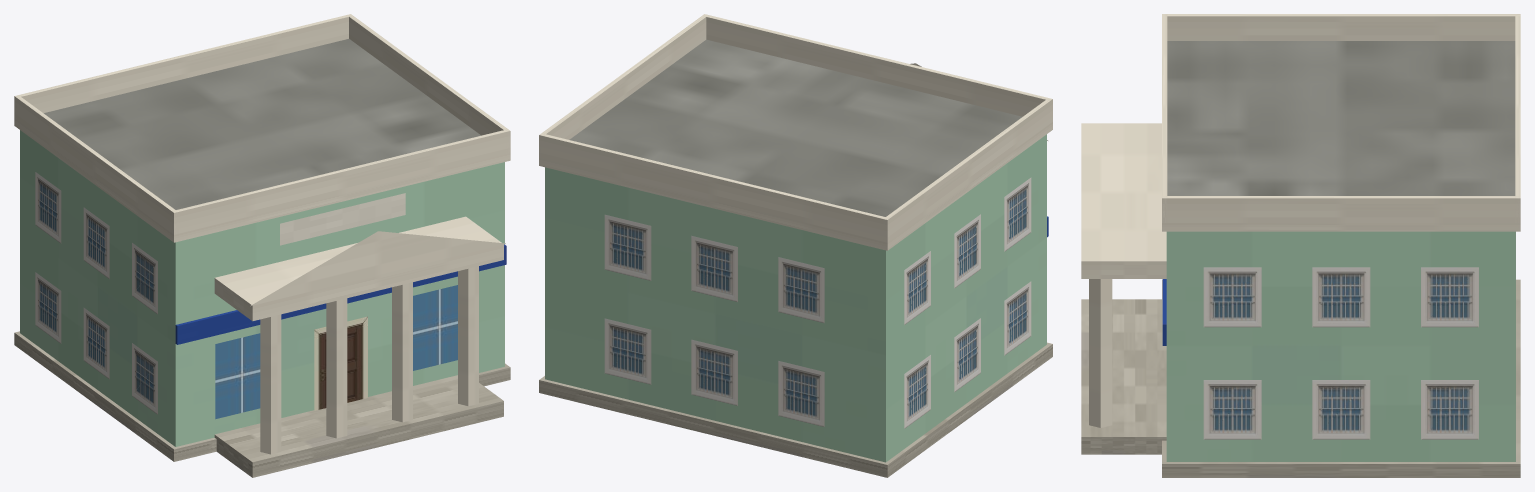
The model's file is bank-mint-far.glb.
The picture shows the model from 3 angles, left to right: view 1: azimuth 30°, elevation 25°; view 2: azimuth 150°, elevation 25°; view 3: azimuth 270°, elevation 25°; orthographic projection. The views are drawn at different scales.
Visible parts, largest first — view 1: bank-mint-far, sign_1; view 2: bank-mint-far; view 3: bank-mint-far.
Part boxes in pixels (bbox=[...]): bank-mint-far: bbox=[14, 14, 510, 477]; sign_1: bbox=[280, 193, 405, 245]; bank-mint-far: bbox=[539, 14, 1052, 477]; bank-mint-far: bbox=[1081, 14, 1520, 477].
Size of the model in its own units: 11.24 by 7.95 by 11.32.
Materials: 1 (1 with a texture image).
